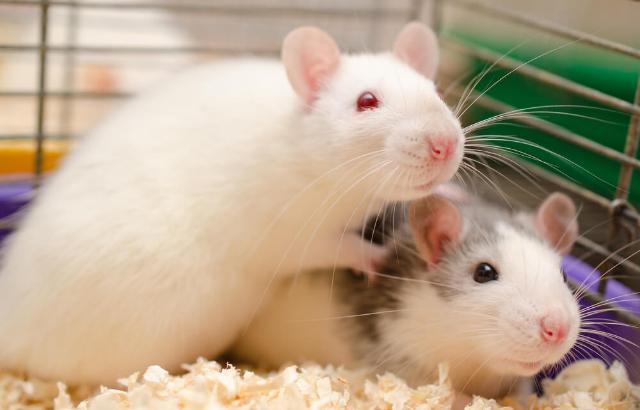rat: (52, 10, 494, 292), (297, 173, 615, 409)
